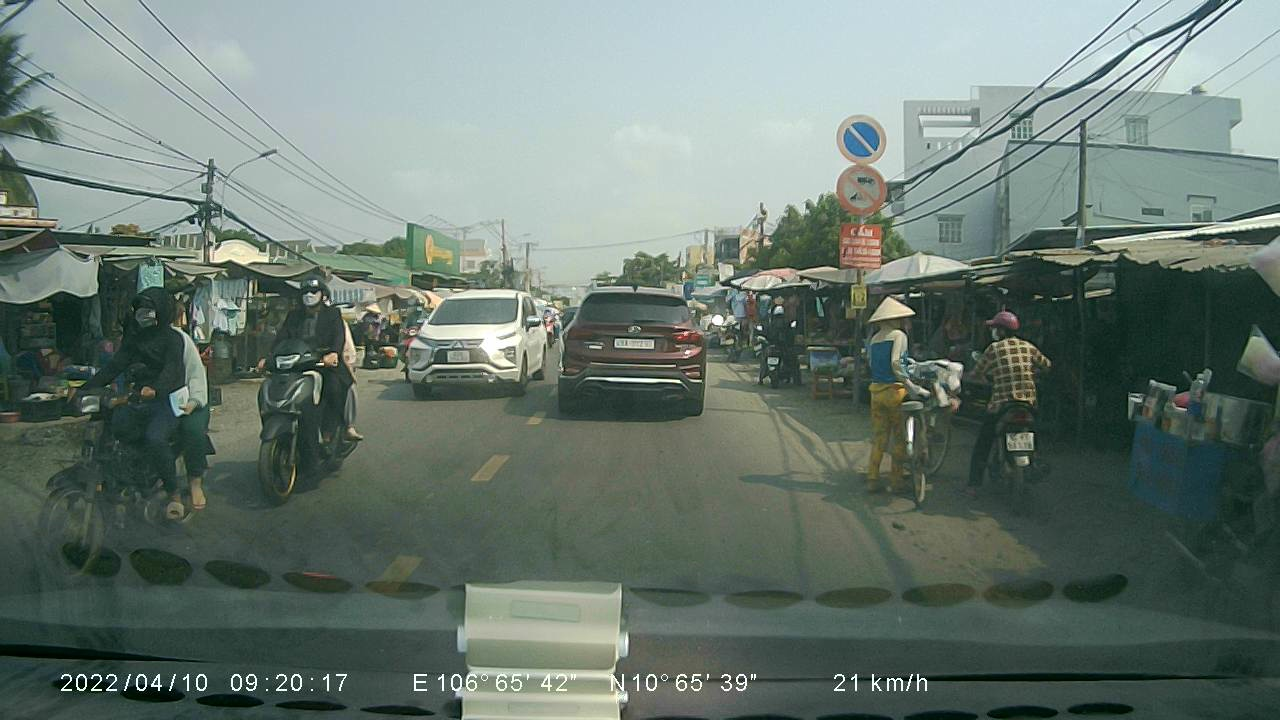Bien khac: (832, 163, 888, 214)
Cam do xe: (832, 109, 888, 164)
